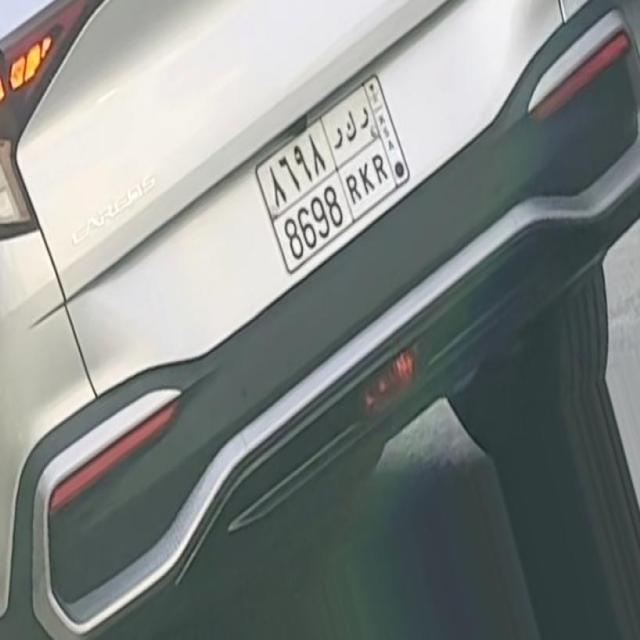Car-plate: (240, 56, 426, 292)
